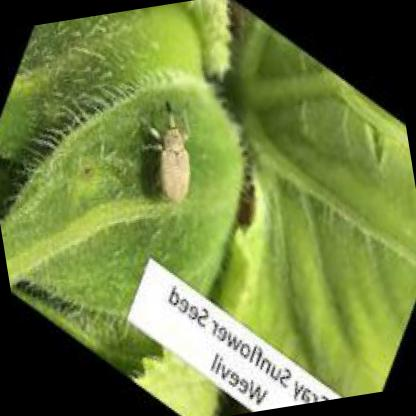ash weevil: (142, 101, 192, 205)
